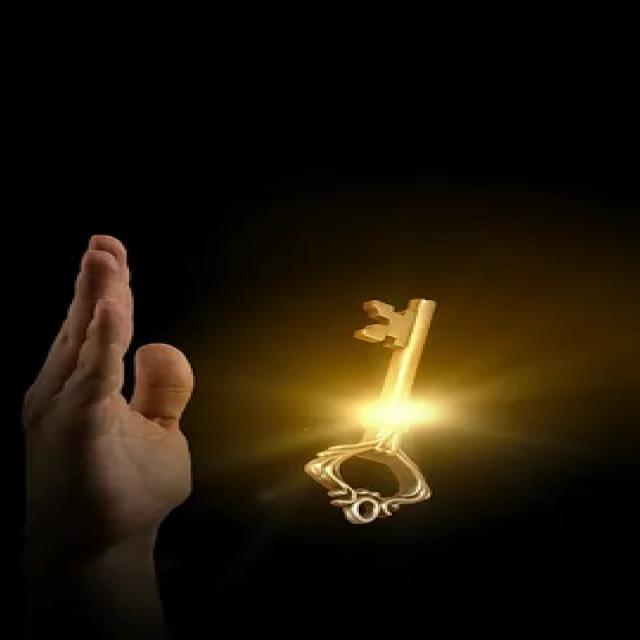key: (282, 276, 470, 528)
